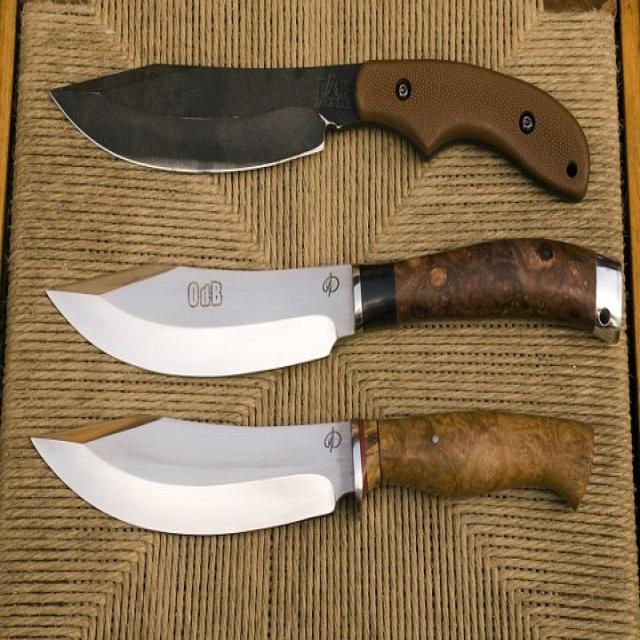Pisau: (32, 225, 620, 375)
